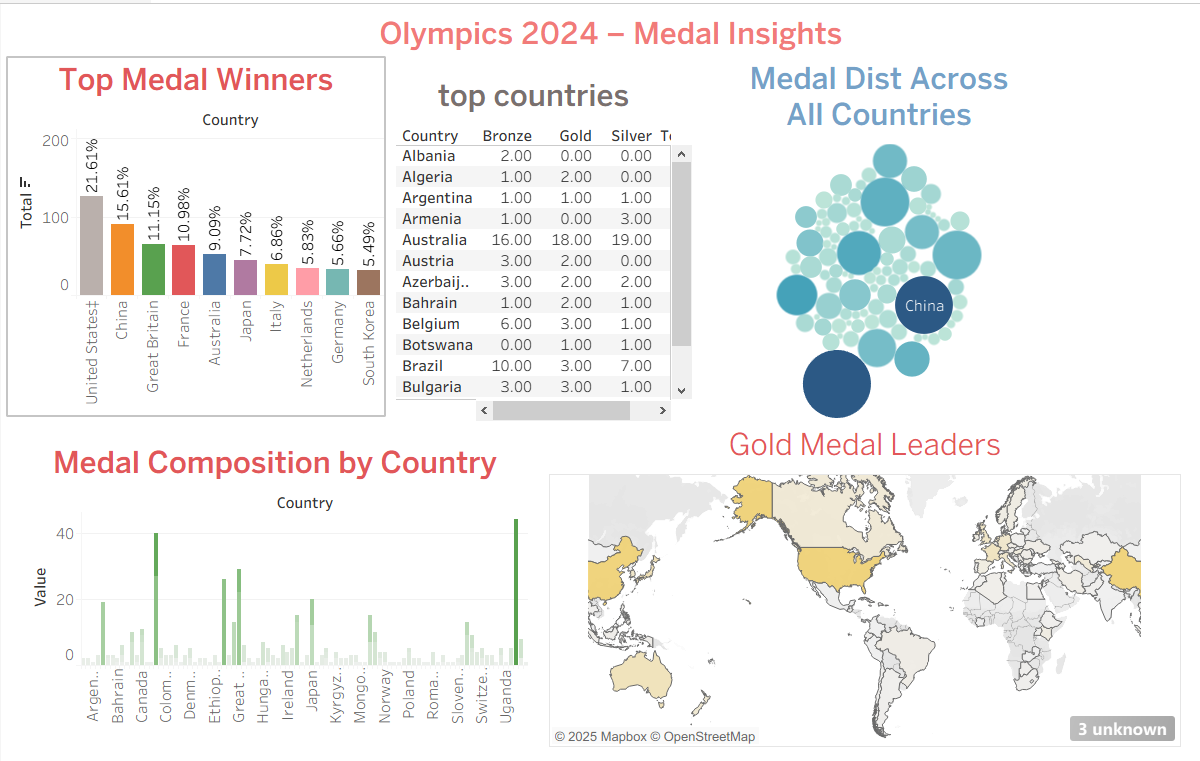

Layout of this report page (visuals, bound fields, positions):
{"tool":"tableau","page":{"name":"Dashboard 1","canvas":[1000,1000],"units":"permille","ordinal":0},"visuals":[{"type":"title","box":[6.6,10.5,986.9,57.9]},{"type":"worksheet","title":"Medal Distribution Across All Countries","mark":"Circle","box":[607.4,69.7,382,475]},{"type":"worksheet","title":" Top Medal Winners","mark":"Automatic","rows":["Total"],"cols":["Country"],"box":[5.7,71,308.2,469.7]},{"type":"worksheet","title":"Top countries medal counts","mark":"Automatic","rows":["Country"],"box":[323.8,92.1,242.6,456.6]},{"type":"worksheet","title":"Gold Medal Leaders","mark":"Automatic","box":[449.2,548.7,518,428.9]},{"type":"worksheet","title":" Medal Composition by Country","mark":"Bar","cols":["Country"],"box":[17.2,575,414.8,373.7]}]}

Visuals, with their boxes on the dashboard's canvas, which has no fixed pixel size, in thousandths of its width and height (x1, y1, x2, y2). These are canvas units, not pixel positions in the 1200x761 screenshot, which may show the page scaled, cropped or inside an application window:
title: bbox=(7, 10, 994, 68)
"Medal Distribution Across All Countries" worksheet (Circle marks): bbox=(607, 70, 989, 545)
" Top Medal Winners" worksheet: bbox=(6, 71, 314, 541)
"Top countries medal counts" worksheet: bbox=(324, 92, 566, 549)
"Gold Medal Leaders" worksheet: bbox=(449, 549, 967, 978)
" Medal Composition by Country" worksheet (Bar marks): bbox=(17, 575, 432, 949)
